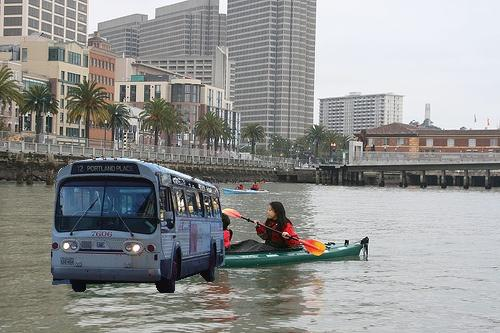tampered: (52, 158, 225, 293)
